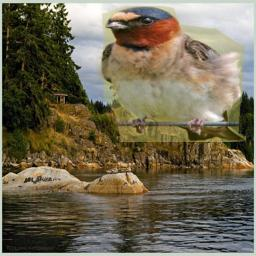Swallow: (96, 6, 246, 142)
